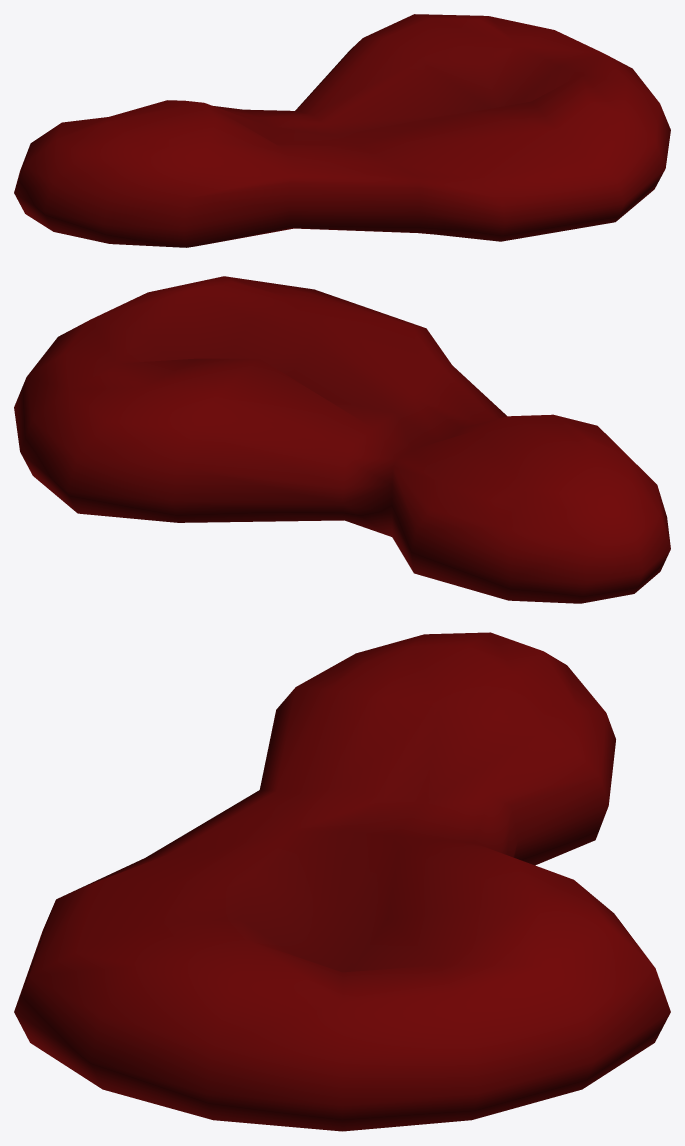
File: UsedGum005.glb
The picture shows the model from 3 angles, top to bottom: view 1: azimuth 30°, elevation 25°; view 2: azimuth 150°, elevation 25°; view 3: azimuth 270°, elevation 25°; orthographic projection. The views are drawn at different scales.
Visible parts, largest first — view 1: UsedGum005; view 2: UsedGum005; view 3: UsedGum005.
Boxes of the visible parts, x1,y1,x2,y2 form: UsedGum005: [14, 14, 670, 247]; UsedGum005: [14, 276, 670, 603]; UsedGum005: [14, 632, 670, 1131].
Bounding box in the file's own units: 0.6295 × 0.1031 × 0.411.
